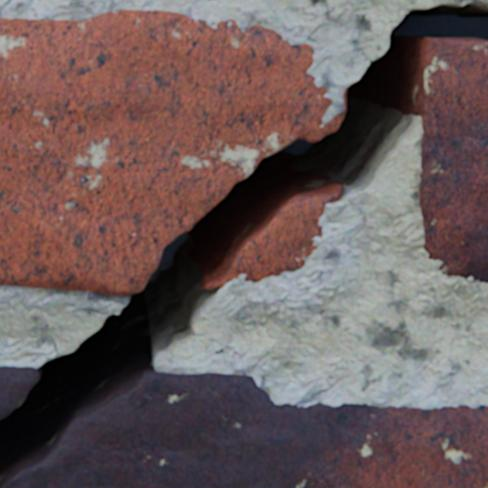brick: (418, 39, 487, 282)
broken_brick: (0, 10, 342, 294), (3, 370, 487, 487), (209, 196, 329, 287), (0, 365, 40, 418)
crack: (0, 1, 487, 487)
